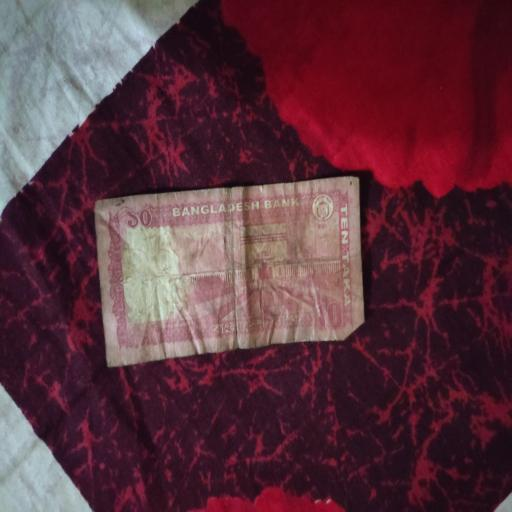10taka: (88, 196, 376, 356)
